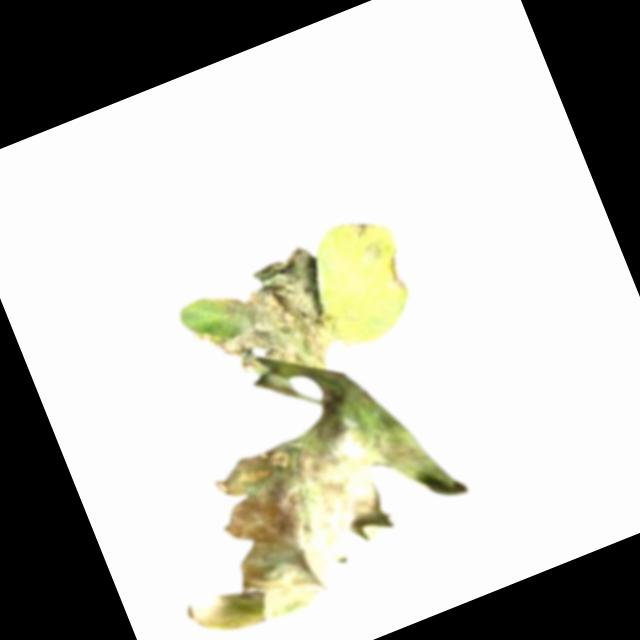Late_blight: (124, 344, 487, 640), (181, 241, 358, 410), (379, 255, 412, 299), (352, 240, 386, 271)
